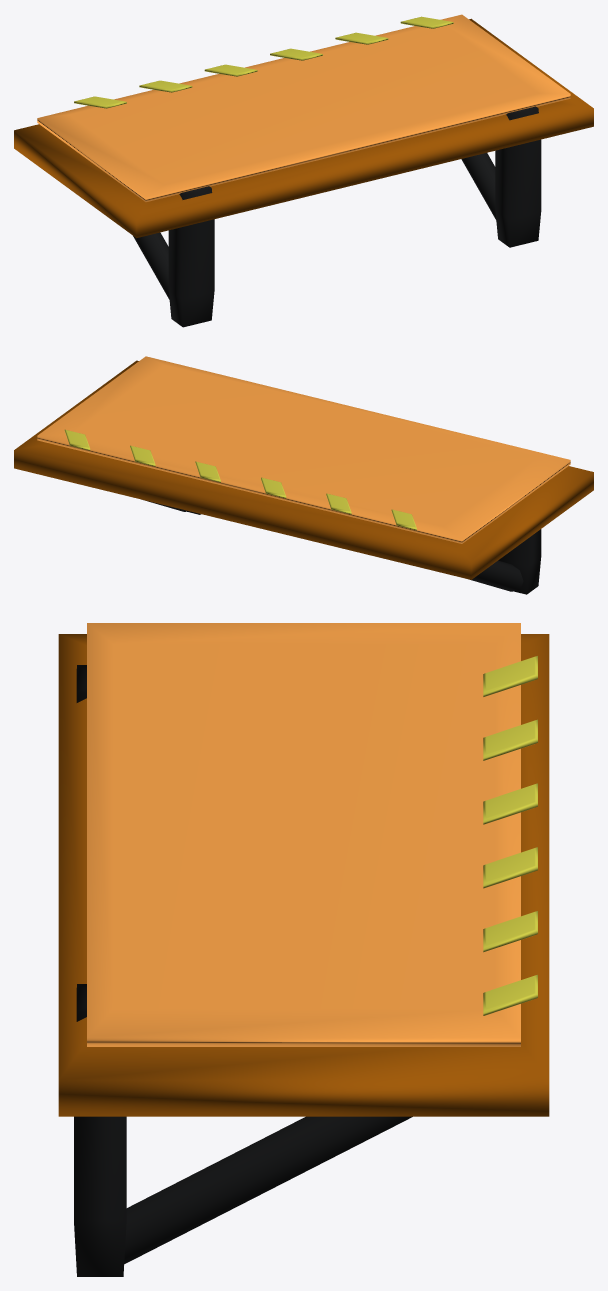
The model's file is TowerPlatform.glb.
The picture shows the model from 3 angles, top to bottom: view 1: azimuth 30°, elevation 25°; view 2: azimuth 150°, elevation 25°; view 3: azimuth 270°, elevation 25°; orthographic projection. The views are drawn at different scales.
Parts seen in each view (by area): view 1: Deck, Body, Brackets, EdgeMarks; view 2: Deck, Body, Brackets, EdgeMarks; view 3: Deck, Body, Brackets, EdgeMarks.
Part boxes in pixels (left/top/right/bottom): Deck: left=37, top=14, right=570, bottom=201; Body: left=14, top=18, right=593, bottom=238; Brackets: left=133, top=106, right=541, bottom=327; EdgeMarks: left=74, top=16, right=453, bottom=108; Deck: left=37, top=356, right=570, bottom=543; Body: left=14, top=360, right=593, bottom=579; Brackets: left=143, top=500, right=541, bottom=594; EdgeMarks: left=64, top=429, right=416, bottom=530; Deck: left=87, top=623, right=520, bottom=1046; Body: left=58, top=634, right=549, bottom=1116; Brackets: left=74, top=665, right=412, bottom=1276; EdgeMarks: left=483, top=656, right=537, bottom=1015.
Size of the model in its own units: 1.57 by 0.4613 by 0.728.
Materials: 1 (1 with a texture image).
